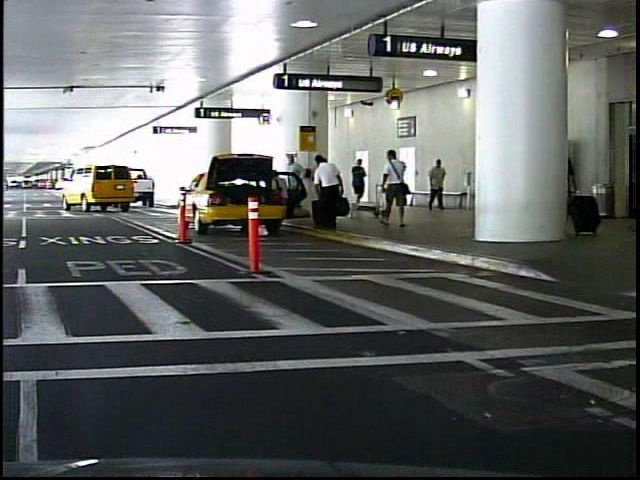person: (374, 144, 411, 230), (423, 153, 444, 215)
